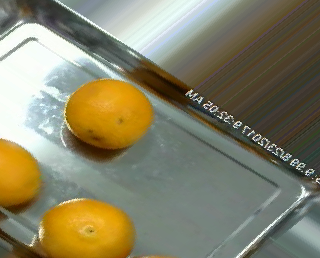Orange: (64, 77, 153, 148), (39, 197, 137, 258)
